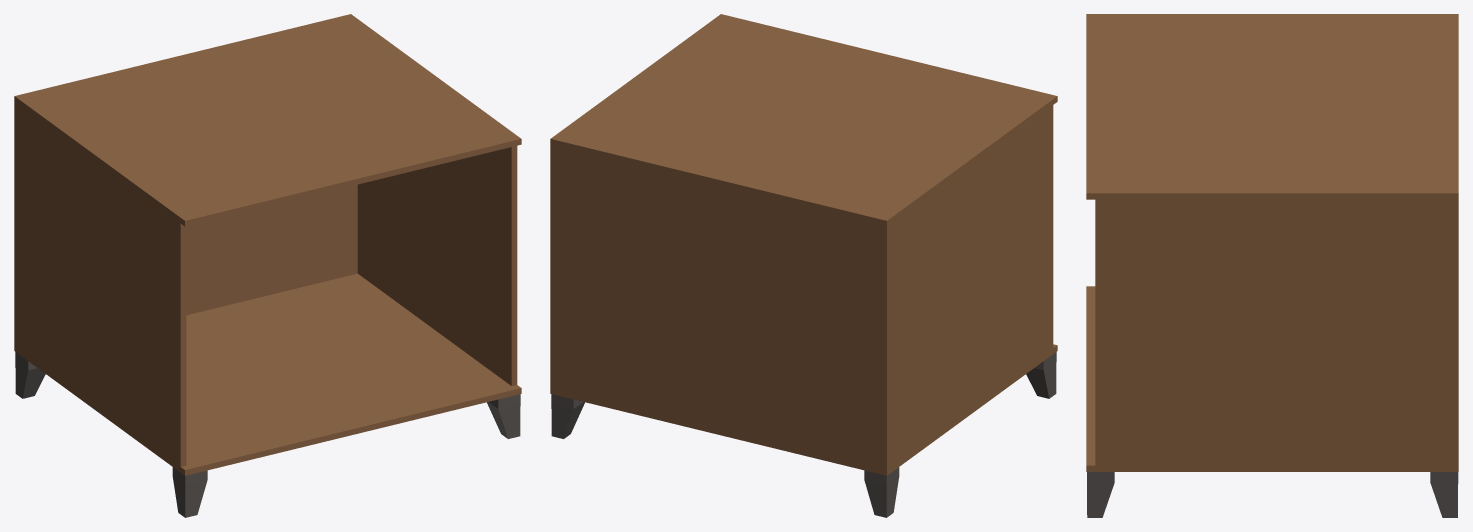
The model's file is Cupboard_15_01.fbx.
The picture shows the model from 3 angles, left to right: view 1: azimuth 30°, elevation 25°; view 2: azimuth 150°, elevation 25°; view 3: azimuth 270°, elevation 25°; orthographic projection. The views are drawn at different scales.
Visible parts, largest first — view 1: Cupboard_15_01; view 2: Cupboard_15_01; view 3: Cupboard_15_01.
Part boxes in pixels (x1=…): Cupboard_15_01: x1=14, y1=14, x2=521, y2=517; Cupboard_15_01: x1=550, y1=14, x2=1057, y2=517; Cupboard_15_01: x1=1086, y1=14, x2=1458, y2=517.
Size of the model in its own units: 55.6 by 46.99 by 48.81.
